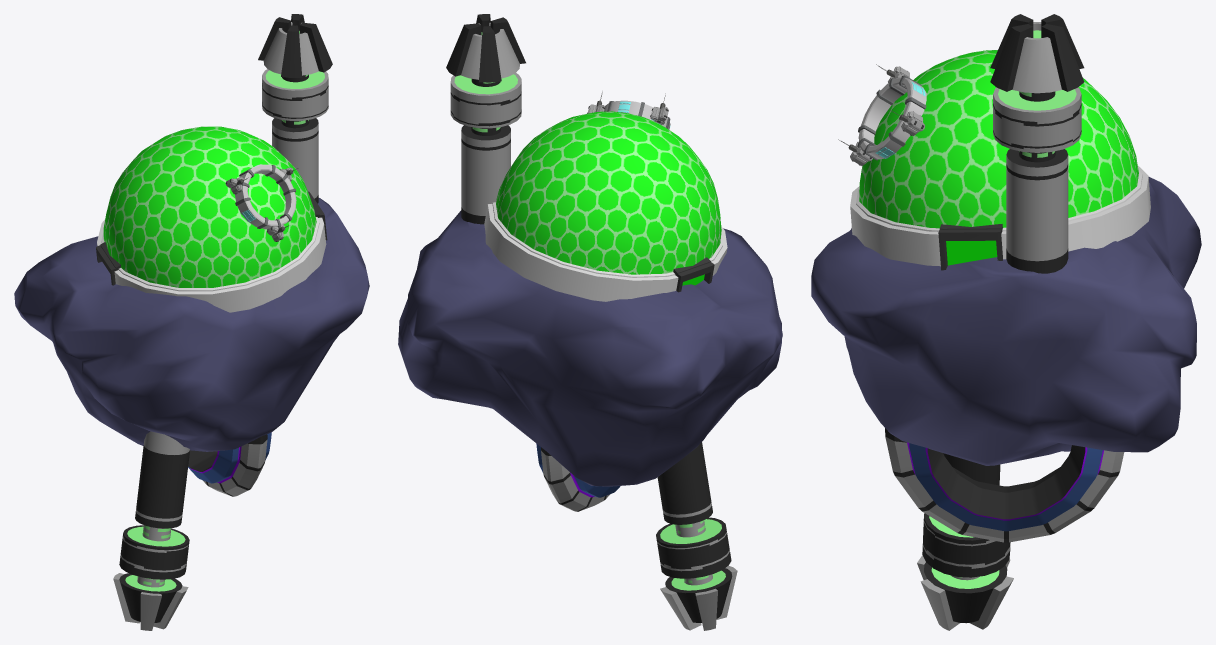
Rendered from PodBase_03.fbx.
3 views of the same model, side by side, from view 1: azimuth 30°, elevation 25°; view 2: azimuth 150°, elevation 25°; view 3: azimuth 270°, elevation 25° (orthographic). The views are drawn at different scales.
Parts seen in each view (by area): view 1: SM_Env_Astroid_07, DomeSphere_01, TowerDevice_07, TowerDevice_06, DomeGate_01, GroundRing_08, RingGate_03; view 2: SM_Env_Astroid_07, DomeSphere_01, TowerDevice_06, TowerDevice_07, DomeGate_01, GroundRing_08, RingGate_03; view 3: SM_Env_Astroid_07, DomeSphere_01, TowerDevice_06, GroundRing_08, DomeGate_01, TowerDevice_07, RingGate_03.
Part boxes in pixels (bbox=[...]): SM_Env_Astroid_07: bbox=[14, 198, 369, 451]; DomeSphere_01: bbox=[103, 126, 316, 287]; TowerDevice_07: bbox=[113, 431, 189, 630]; TowerDevice_06: bbox=[258, 14, 332, 203]; DomeGate_01: bbox=[96, 191, 327, 312]; GroundRing_08: bbox=[188, 432, 271, 496]; RingGate_03: bbox=[225, 164, 298, 241]; SM_Env_Astroid_07: bbox=[398, 210, 782, 486]; DomeSphere_01: bbox=[495, 111, 721, 274]; TowerDevice_06: bbox=[446, 14, 525, 224]; TowerDevice_07: bbox=[656, 442, 737, 630]; DomeGate_01: bbox=[484, 202, 727, 301]; GroundRing_08: bbox=[536, 443, 620, 511]; RingGate_03: bbox=[587, 91, 670, 129]; SM_Env_Astroid_07: bbox=[811, 177, 1201, 465]; DomeSphere_01: bbox=[859, 50, 1138, 228]; TowerDevice_06: bbox=[990, 14, 1084, 273]; GroundRing_08: bbox=[885, 428, 1124, 542]; DomeGate_01: bbox=[850, 165, 1150, 270]; TowerDevice_07: bbox=[917, 453, 1013, 630]; RingGate_03: bbox=[838, 64, 926, 165].
Bounding box in the file's own units: 326 × 555 × 275.
